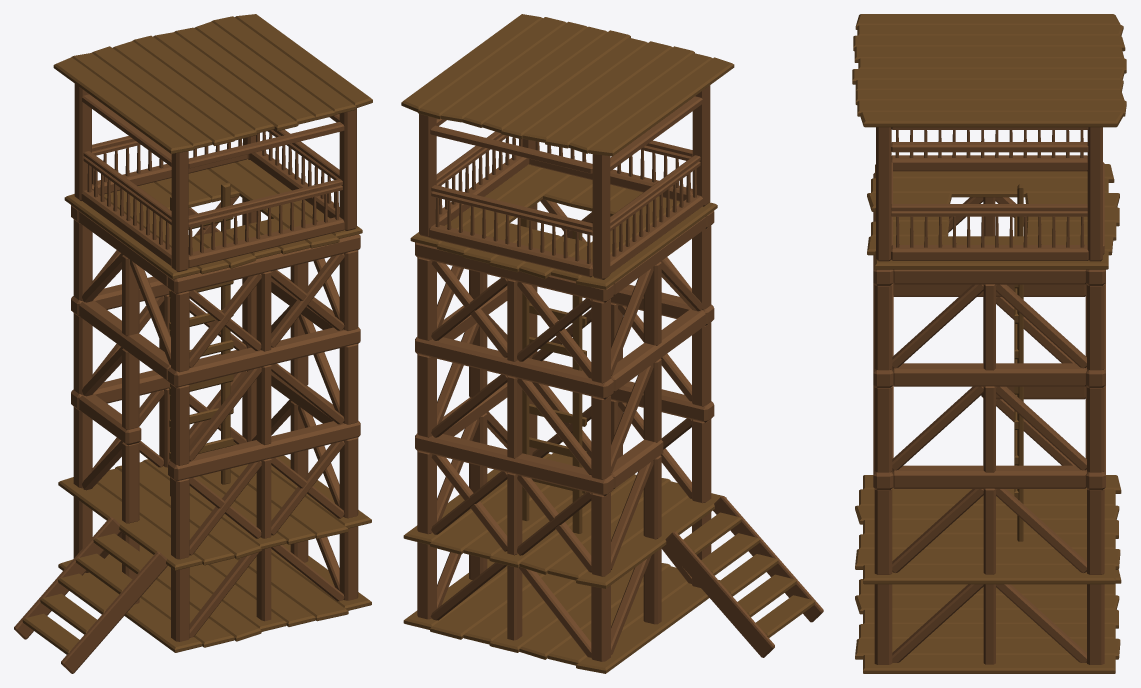
File: farmstractures_05.gltf
The picture shows the model from 3 angles, left to right: view 1: azimuth 30°, elevation 25°; view 2: azimuth 150°, elevation 25°; view 3: azimuth 270°, elevation 25°; orthographic projection. The views are drawn at different scales.
Parts seen in each view (by area): view 1: body, blades; view 2: body, blades; view 3: body, blades.
Boxes of the visible parts, <box> form: body: <box>14,84,372,673</box>; blades: <box>53,14,370,387</box>; body: <box>401,85,823,673</box>; blades: <box>404,14,734,399</box>; body: <box>852,14,1126,673</box>; blades: <box>852,14,1126,386</box>.
Size of the model in its own units: 5.29 by 8.57 by 3.82.
1 material, 1 textured.
